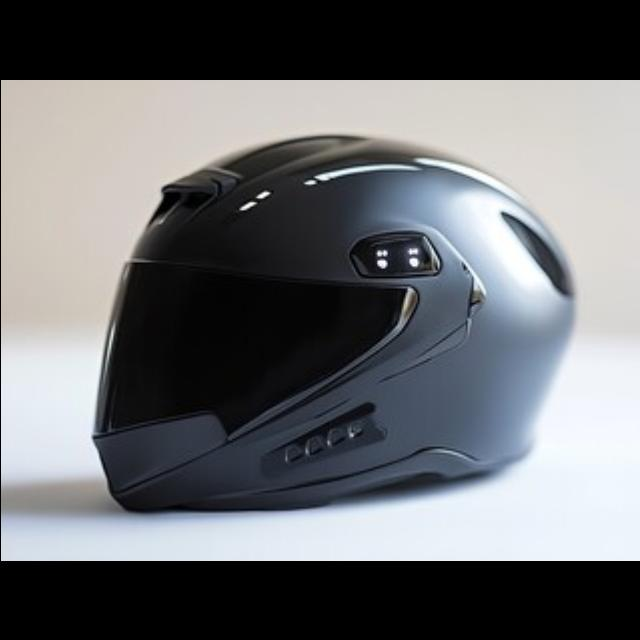motorcycle-helmets: (86, 127, 584, 510)
